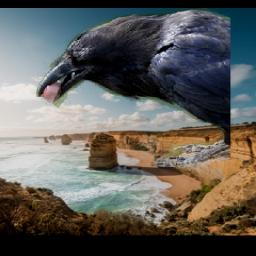Crow: (36, 8, 230, 167)
